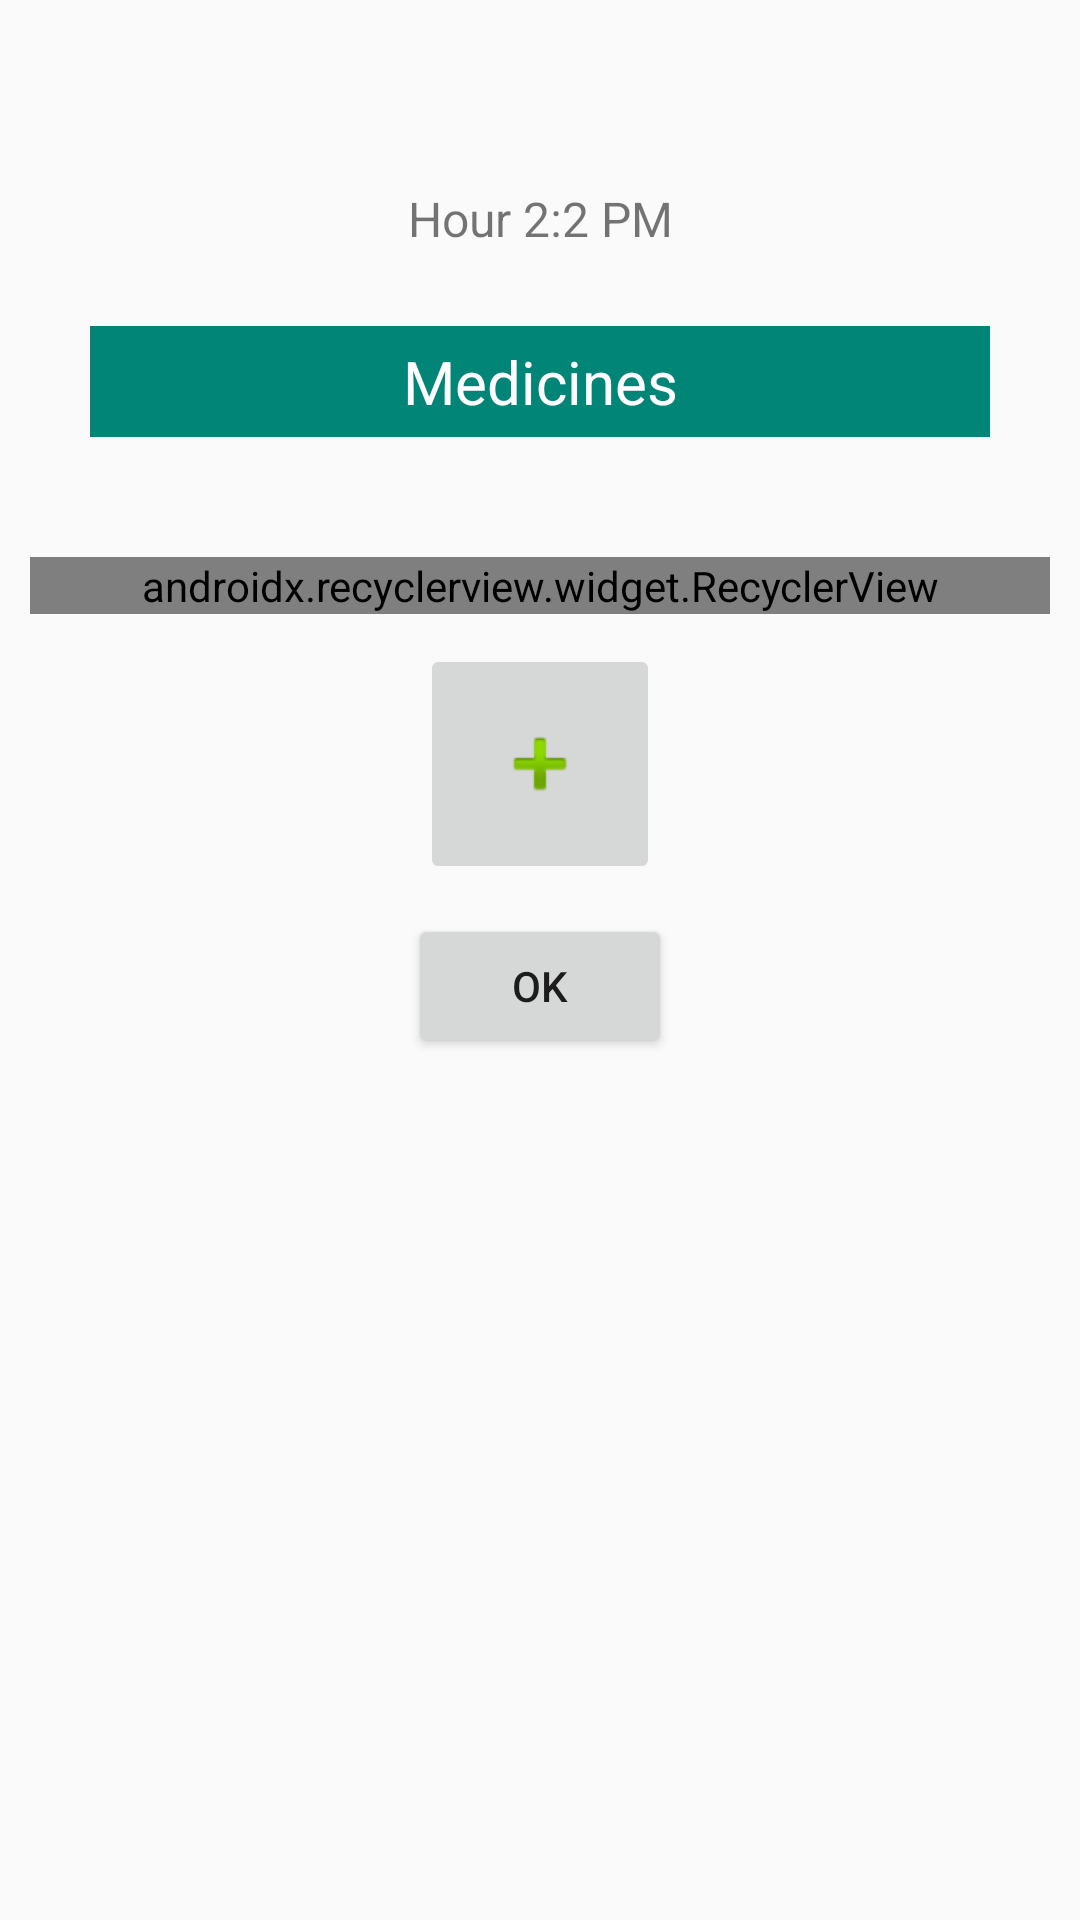

Icon bounding boxes for this 1080*1920 phone screenshot, format [x1, y1, x2, y2]:
add: [432, 662, 648, 866]
